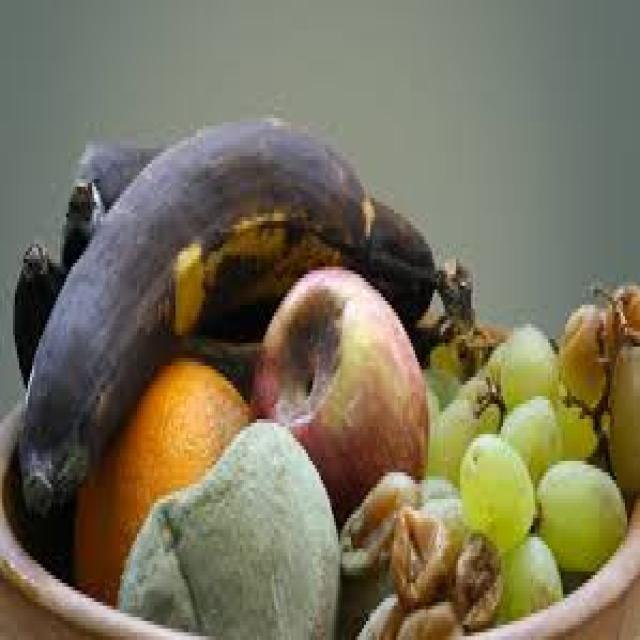food_waste: (13, 118, 638, 636)
